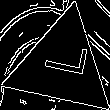L_W: (35, 45, 89, 86)
